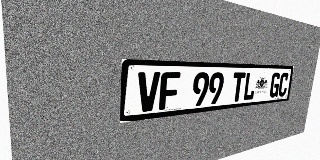9: (191, 72, 210, 106), (207, 72, 225, 105)
C: (277, 73, 289, 97)
F: (159, 72, 180, 110)
G: (269, 72, 281, 98)
L: (242, 72, 257, 101)
T: (230, 72, 246, 102)
V: (137, 72, 160, 113)
